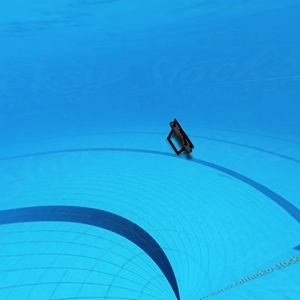submarine: (164, 117, 195, 158)
